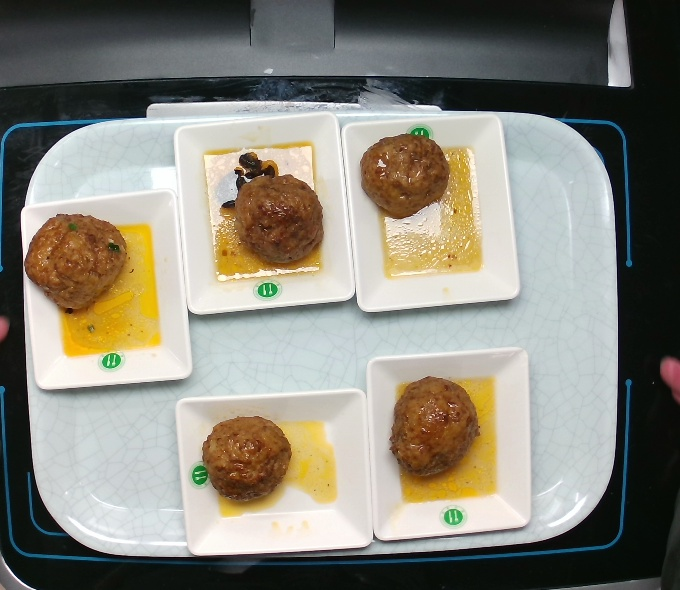wcq-ShiZiTou: (215, 153, 331, 274), (21, 210, 137, 313), (386, 368, 480, 485), (191, 406, 296, 507), (360, 127, 455, 223)
